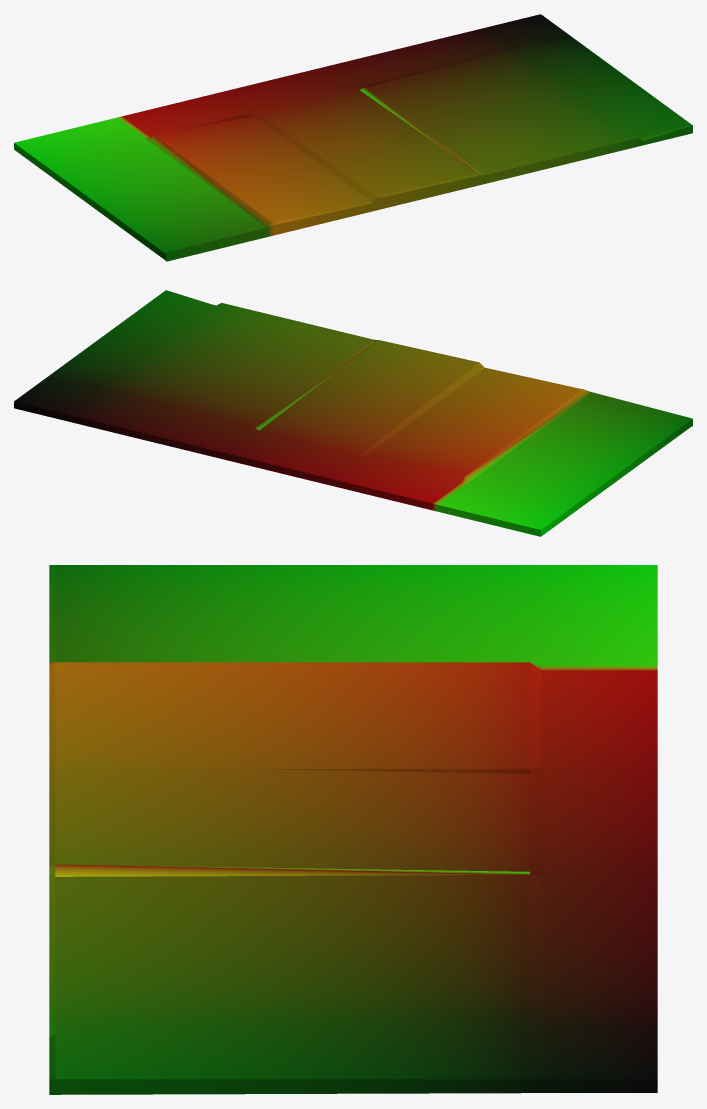
File: SM_Human_Sidewalks510_01.FBX
3 views of the same model, one above another, from view 1: azimuth 30°, elevation 25°; view 2: azimuth 150°, elevation 25°; view 3: azimuth 270°, elevation 25° (orthographic). The views are drawn at different scales.
Visible parts, largest first — view 1: Object059; view 2: Object059; view 3: Object059.
Part boxes in pixels (x1,y1,x2,y2): Object059: [14, 14, 692, 261]; Object059: [14, 290, 692, 536]; Object059: [49, 565, 657, 1094].
Size of the model in its own units: 1000 by 500 by 21.61.
